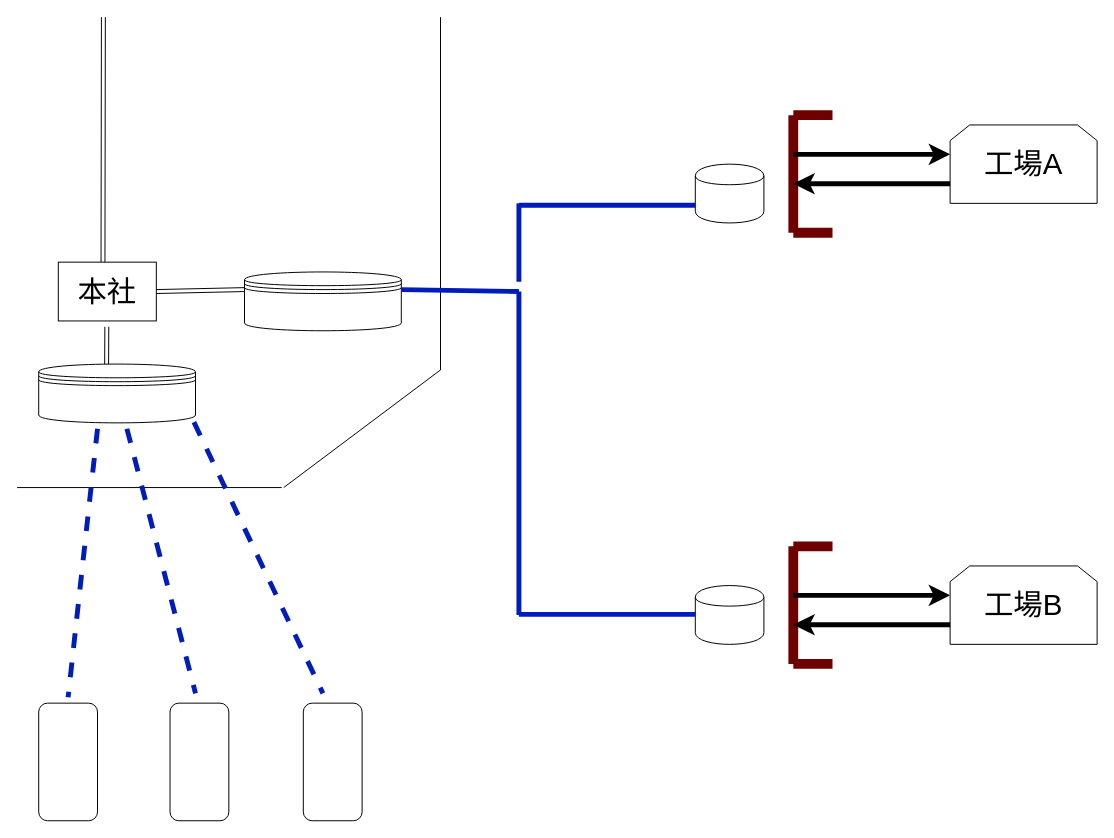
The diagram is 1114 pixels wide and 838 high, and some of its shapes have lost their labels. The centre of each missing label's shape, as x and y in pixels:
DataCloud: point (322, 301)
WebServer: point (117, 393)
